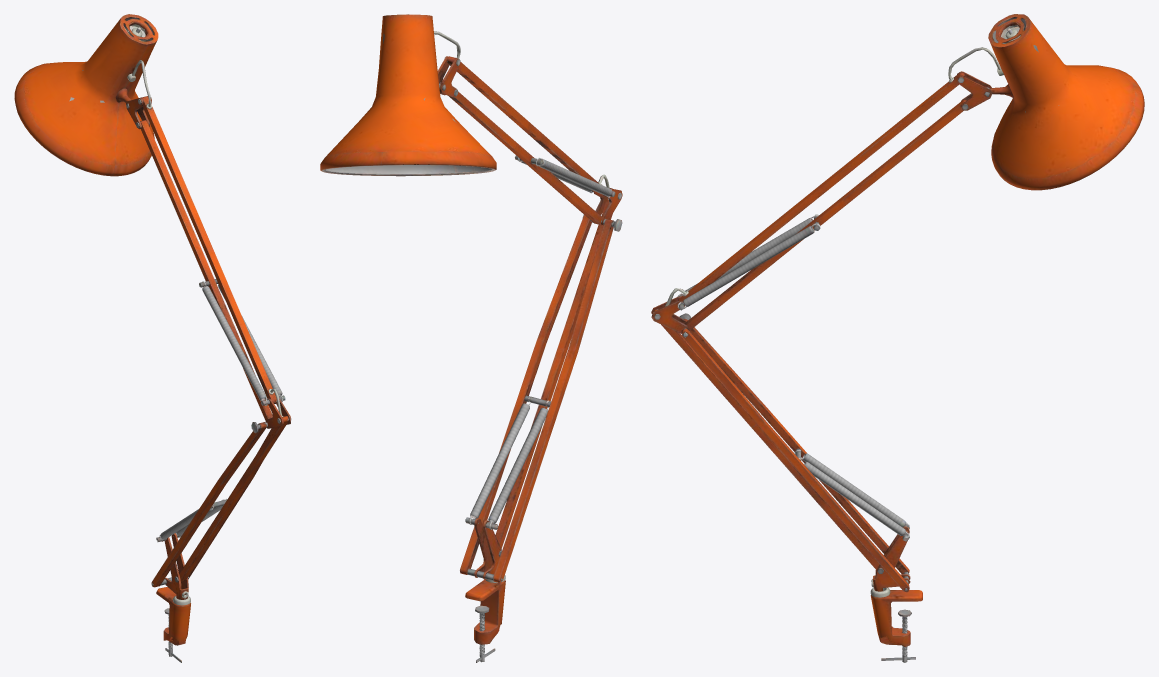
File: desk_lamp_arm_01.glb
The picture shows the model from 3 angles, left to right: view 1: azimuth 30°, elevation 25°; view 2: azimuth 150°, elevation 25°; view 3: azimuth 270°, elevation 25°; orthographic projection. The views are drawn at different scales.
Parts seen in each view (by area): view 1: desk_lamp_arm_01; view 2: desk_lamp_arm_01; view 3: desk_lamp_arm_01.
Boxes of the visible parts, x1=… form: desk_lamp_arm_01: x1=14, y1=14, x2=291, y2=662; desk_lamp_arm_01: x1=320, y1=14, x2=622, y2=662; desk_lamp_arm_01: x1=651, y1=14, x2=1144, y2=662.
Bounding box in the file's own units: 0.2017 × 0.8926 × 0.6139.
2 materials, 2 textured.
